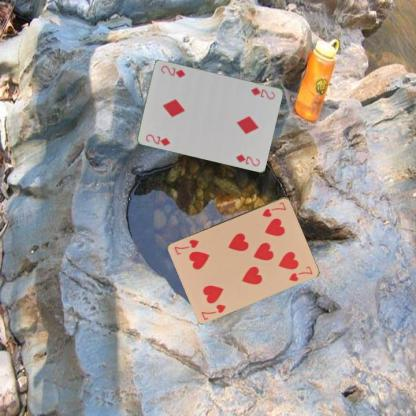2d: (143, 131, 172, 147), (249, 84, 276, 100)
7h: (199, 301, 227, 321), (260, 200, 287, 218)
